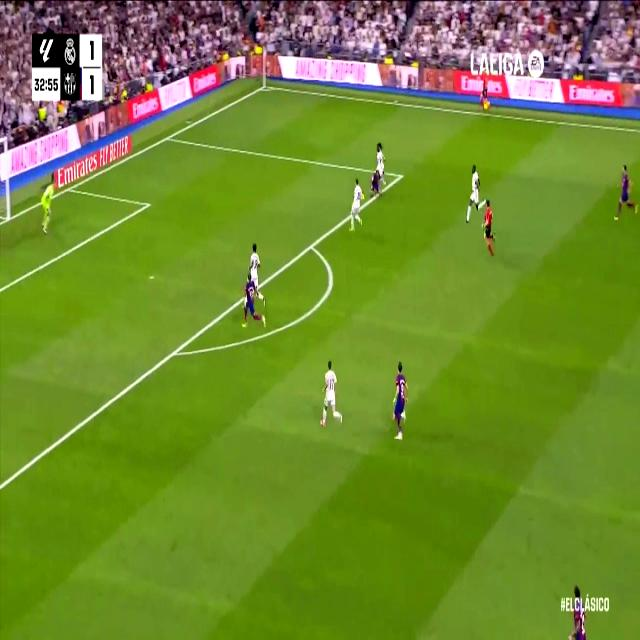bigarea_bottom_inner: (0, 468, 8, 505)
bigarea_top_inner: (394, 164, 406, 188)
bigarea_top_outter: (164, 130, 172, 144)
bottom_arc_area_intersection: (167, 334, 183, 368)
smallarea_top_inner: (144, 196, 152, 213)
top_arc_area_intersection: (306, 233, 317, 257)
